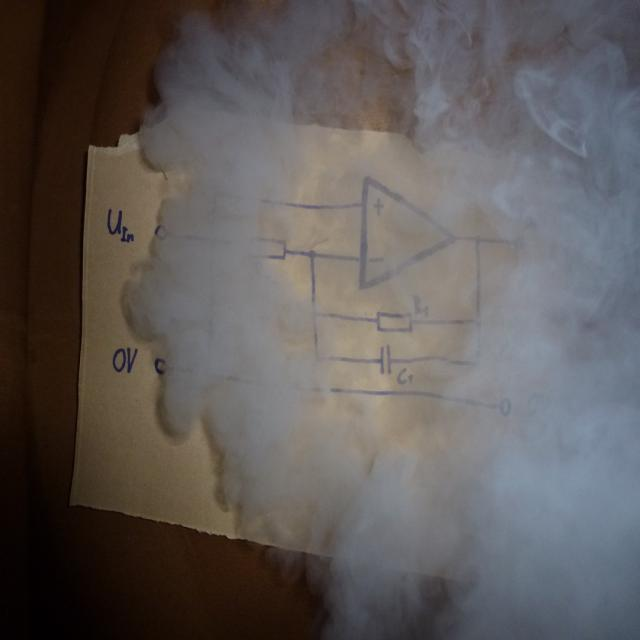capacitor: (377, 343, 393, 374)
crossover: (206, 232, 216, 246)
junction: (472, 315, 484, 327), (211, 188, 221, 202), (202, 366, 212, 379), (472, 354, 481, 366), (472, 233, 481, 245), (307, 248, 316, 259), (309, 307, 317, 318), (313, 353, 320, 363)
resistor: (246, 234, 287, 261), (374, 309, 412, 334)
terminal: (152, 356, 169, 376), (153, 222, 170, 242), (498, 395, 511, 417), (511, 234, 525, 251)
text: (505, 192, 543, 231), (106, 206, 134, 244), (525, 389, 552, 419), (111, 345, 137, 374), (251, 259, 277, 288), (410, 292, 430, 318), (395, 366, 413, 386)
